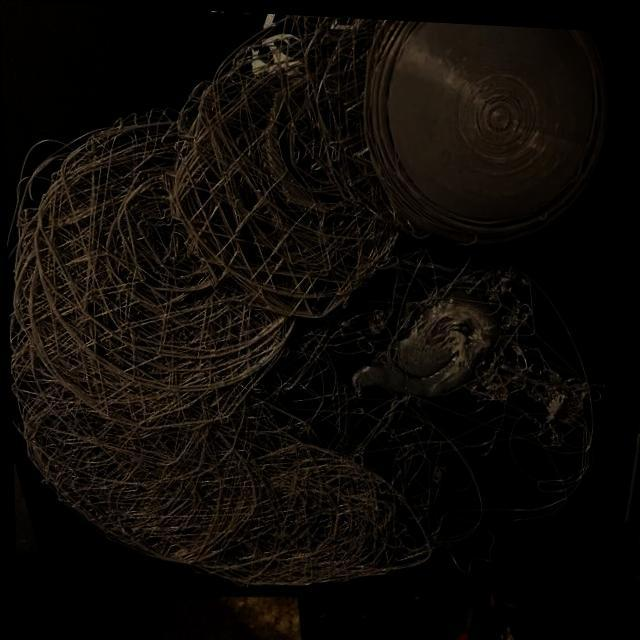spaghetti: (21, 183, 218, 365), (204, 433, 406, 586), (169, 141, 356, 294), (62, 387, 197, 536), (285, 48, 391, 211), (475, 337, 593, 444), (289, 386, 413, 459), (265, 300, 361, 388), (406, 449, 481, 558), (374, 247, 456, 314)
